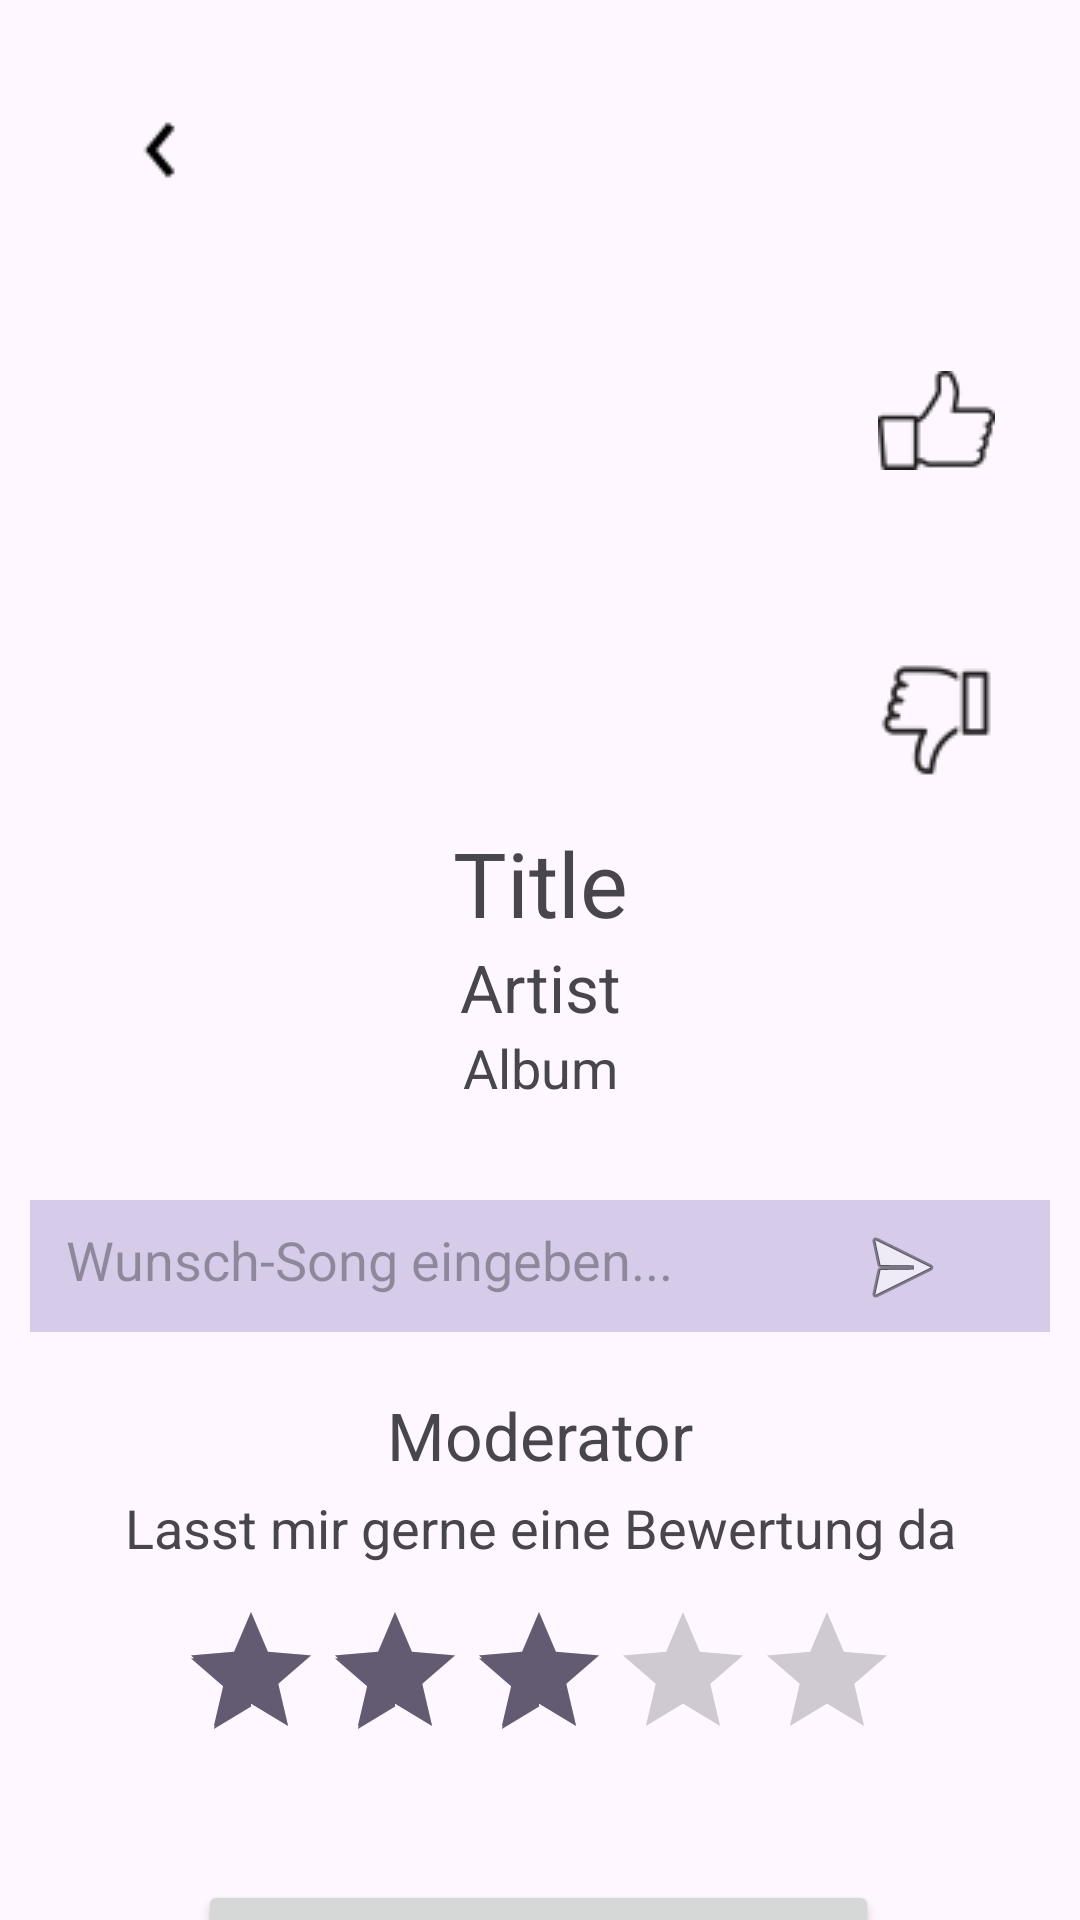

Locate icon controls on the screen. Image size 1080px×1920px, boxes as {"left": x1, "top": y1, "right": x2, "bottom": y2}.
dislike: {"left": 881, "top": 665, "right": 991, "bottom": 775}
like: {"left": 878, "top": 371, "right": 995, "bottom": 470}
songwish: {"left": 872, "top": 1237, "right": 934, "bottom": 1298}
zurueck: {"left": 144, "top": 122, "right": 175, "bottom": 178}
